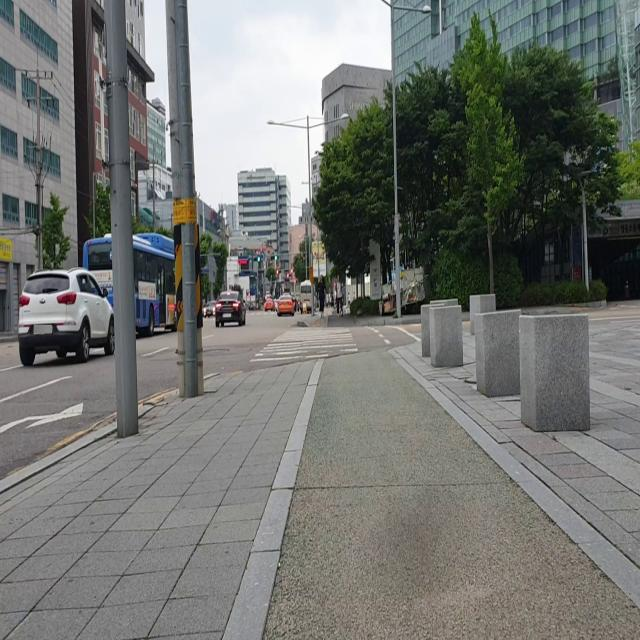횡단보도: (249, 327, 358, 364)
